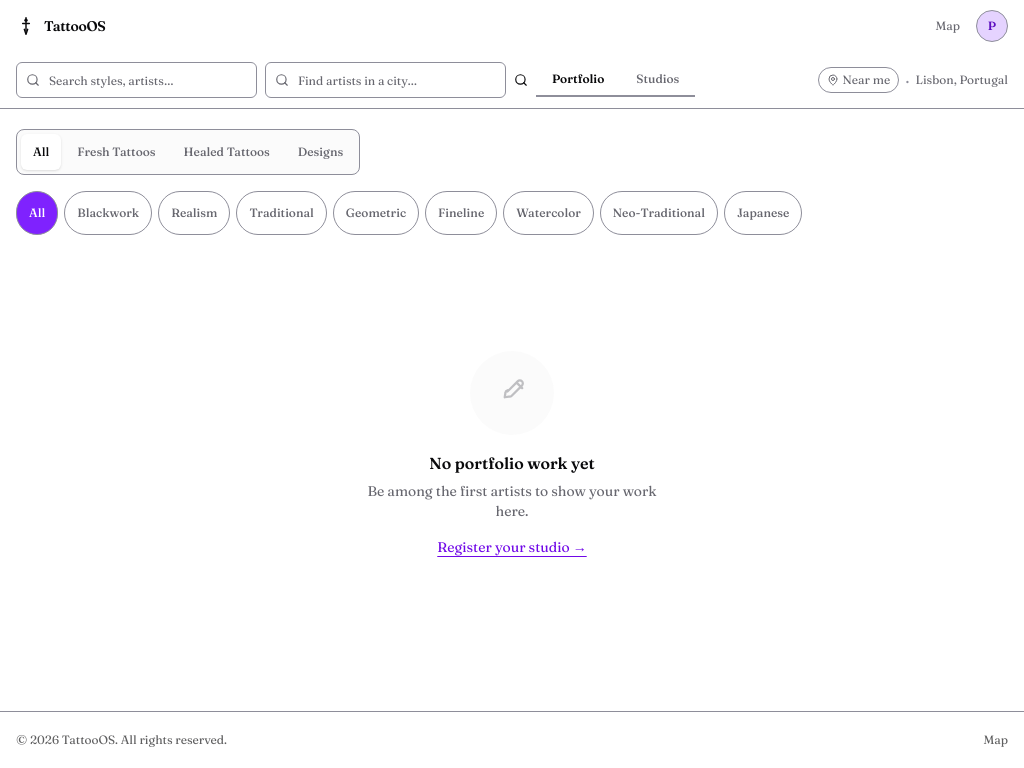
Test case: DiscoverPage — authenticated nav › opens account dropdown when avatar button is clicked
What coordinates should you click on to do the following:
click the button named "account menu"
I would click on:
 (992, 26)
Its box is [976,10,1008,42].
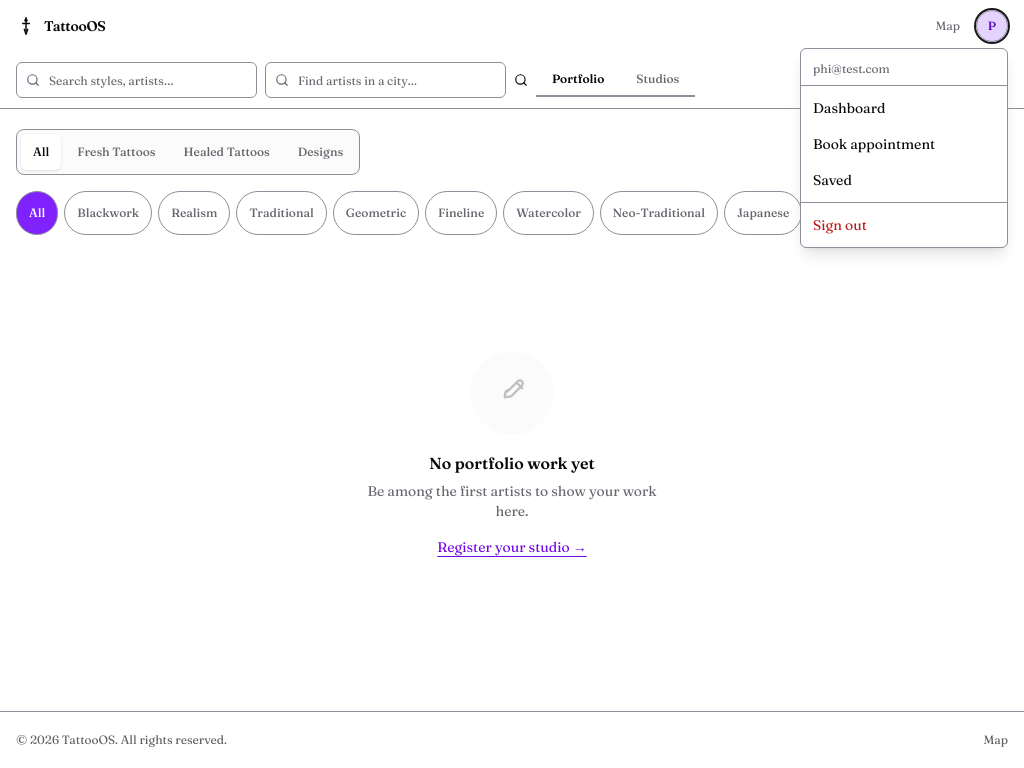
Now the menu named "account options" is shown, box [800,48,1008,248]
Now the menu item "Dashboard" is shown, box [813,99,886,117]
Now the menu item "Sign out" is shown, box [801,207,1007,243]
